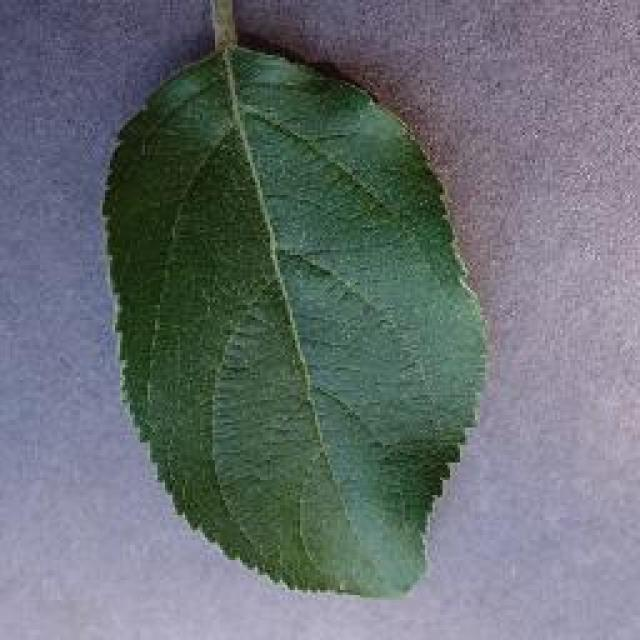apple scab disease: (98, 30, 492, 598)
